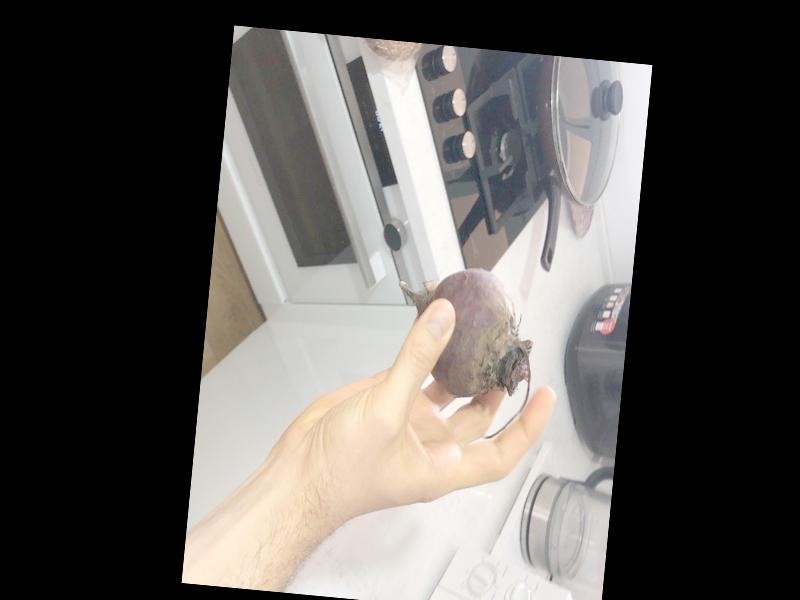Beet: (385, 262, 539, 440)
